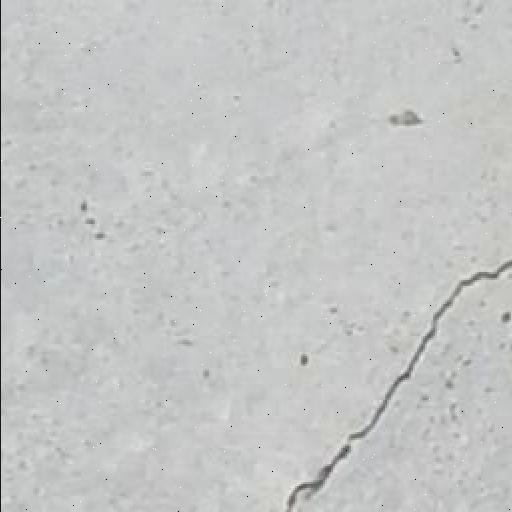spalling: (270, 252, 505, 511)
